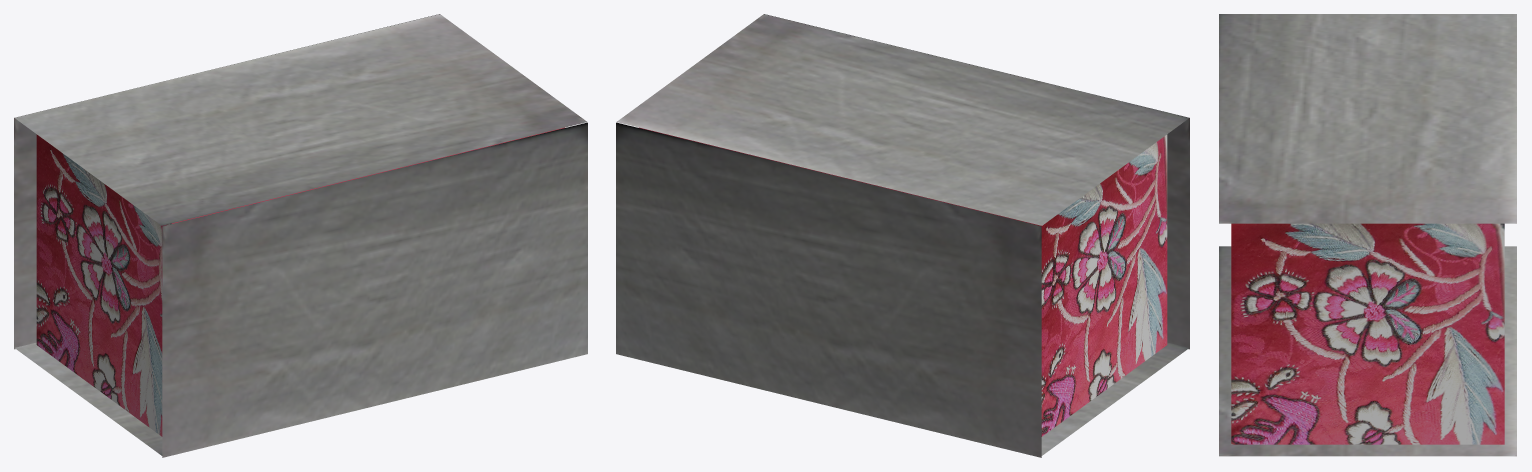
The model's file is PillowForBed.fbx.
3 renders of one model, left to right at view 1: azimuth 30°, elevation 25°; view 2: azimuth 150°, elevation 25°; view 3: azimuth 270°, elevation 25°, orthographic.
Parts seen in each view (by area): view 1: Plane, Plane.002, Cube.001; view 2: Plane, Plane.002, Cube.001; view 3: Plane.002, Cube.001.
Part boxes in pixels (<box>): Plane: <box>14,14,587,457</box>; Plane.002: <box>15,14,586,455</box>; Cube.001: <box>36,127,565,436</box>; Plane: <box>616,14,1189,457</box>; Plane.002: <box>617,14,1188,455</box>; Cube.001: <box>638,127,1167,436</box>; Plane.002: <box>1219,14,1516,456</box>; Cube.001: <box>1231,223,1504,444</box>.
Size of the model in its own units: 20 by 10.41 by 12.06.
Materials: 2 (2 with a texture image).
